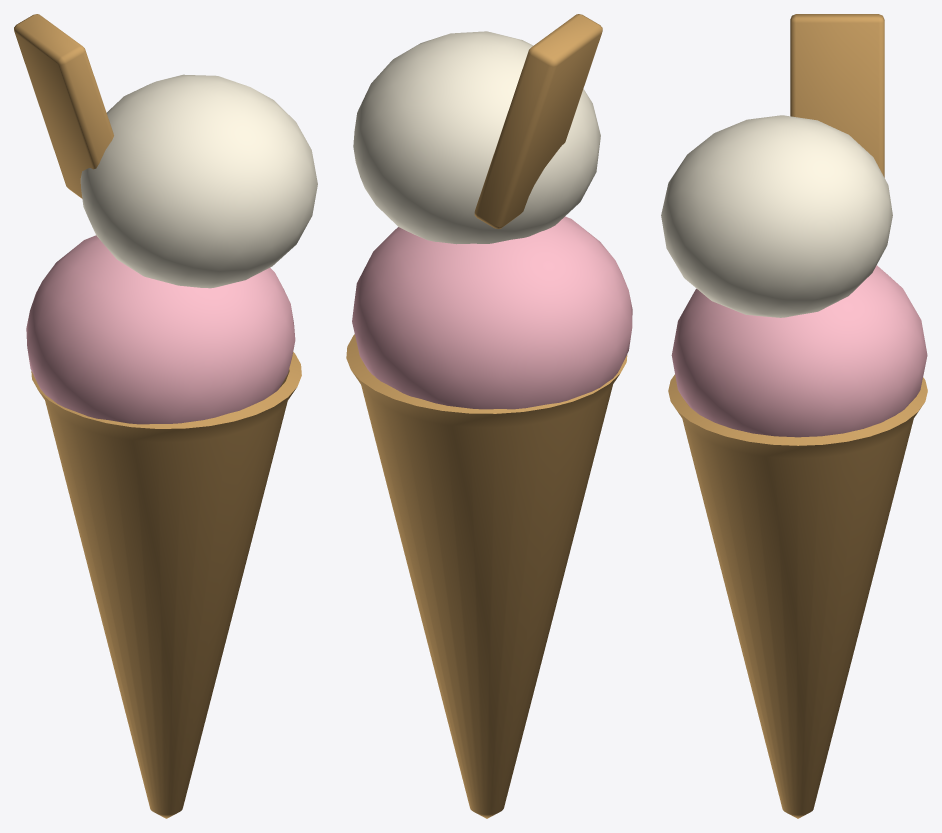
Rendered from food_icecream.glb.
3 views of the same model, side by side, from view 1: azimuth 30°, elevation 25°; view 2: azimuth 150°, elevation 25°; view 3: azimuth 270°, elevation 25° (orthographic). The views are drawn at different scales.
Parts seen in each view (by area): view 1: Cone_LOD0, ScoopB_LOD0, ScoopA_LOD0, Wafer_LOD0; view 2: Cone_LOD0, ScoopA_LOD0, ScoopB_LOD0, Wafer_LOD0; view 3: Cone_LOD0, ScoopB_LOD0, ScoopA_LOD0, Wafer_LOD0.
Boxes of the visible parts, left/top/right/bottom form: Cone_LOD0: left=31, top=352, right=301, bottom=818; ScoopB_LOD0: left=80, top=74, right=317, bottom=288; ScoopA_LOD0: left=26, top=235, right=295, bottom=424; Wafer_LOD0: left=14, top=14, right=113, bottom=198; Cone_LOD0: left=346, top=334, right=627, bottom=818; ScoopA_LOD0: left=352, top=216, right=632, bottom=409; ScoopB_LOD0: left=353, top=31, right=600, bottom=244; Wafer_LOD0: left=474, top=14, right=602, bottom=229; Cone_LOD0: left=668, top=374, right=927, bottom=818; ScoopB_LOD0: left=661, top=115, right=892, bottom=317; ScoopA_LOD0: left=671, top=265, right=927, bottom=437; Wafer_LOD0: left=790, top=14, right=884, bottom=177.
Size of the model in its own units: 0.0696 by 0.2133 by 0.0678.
